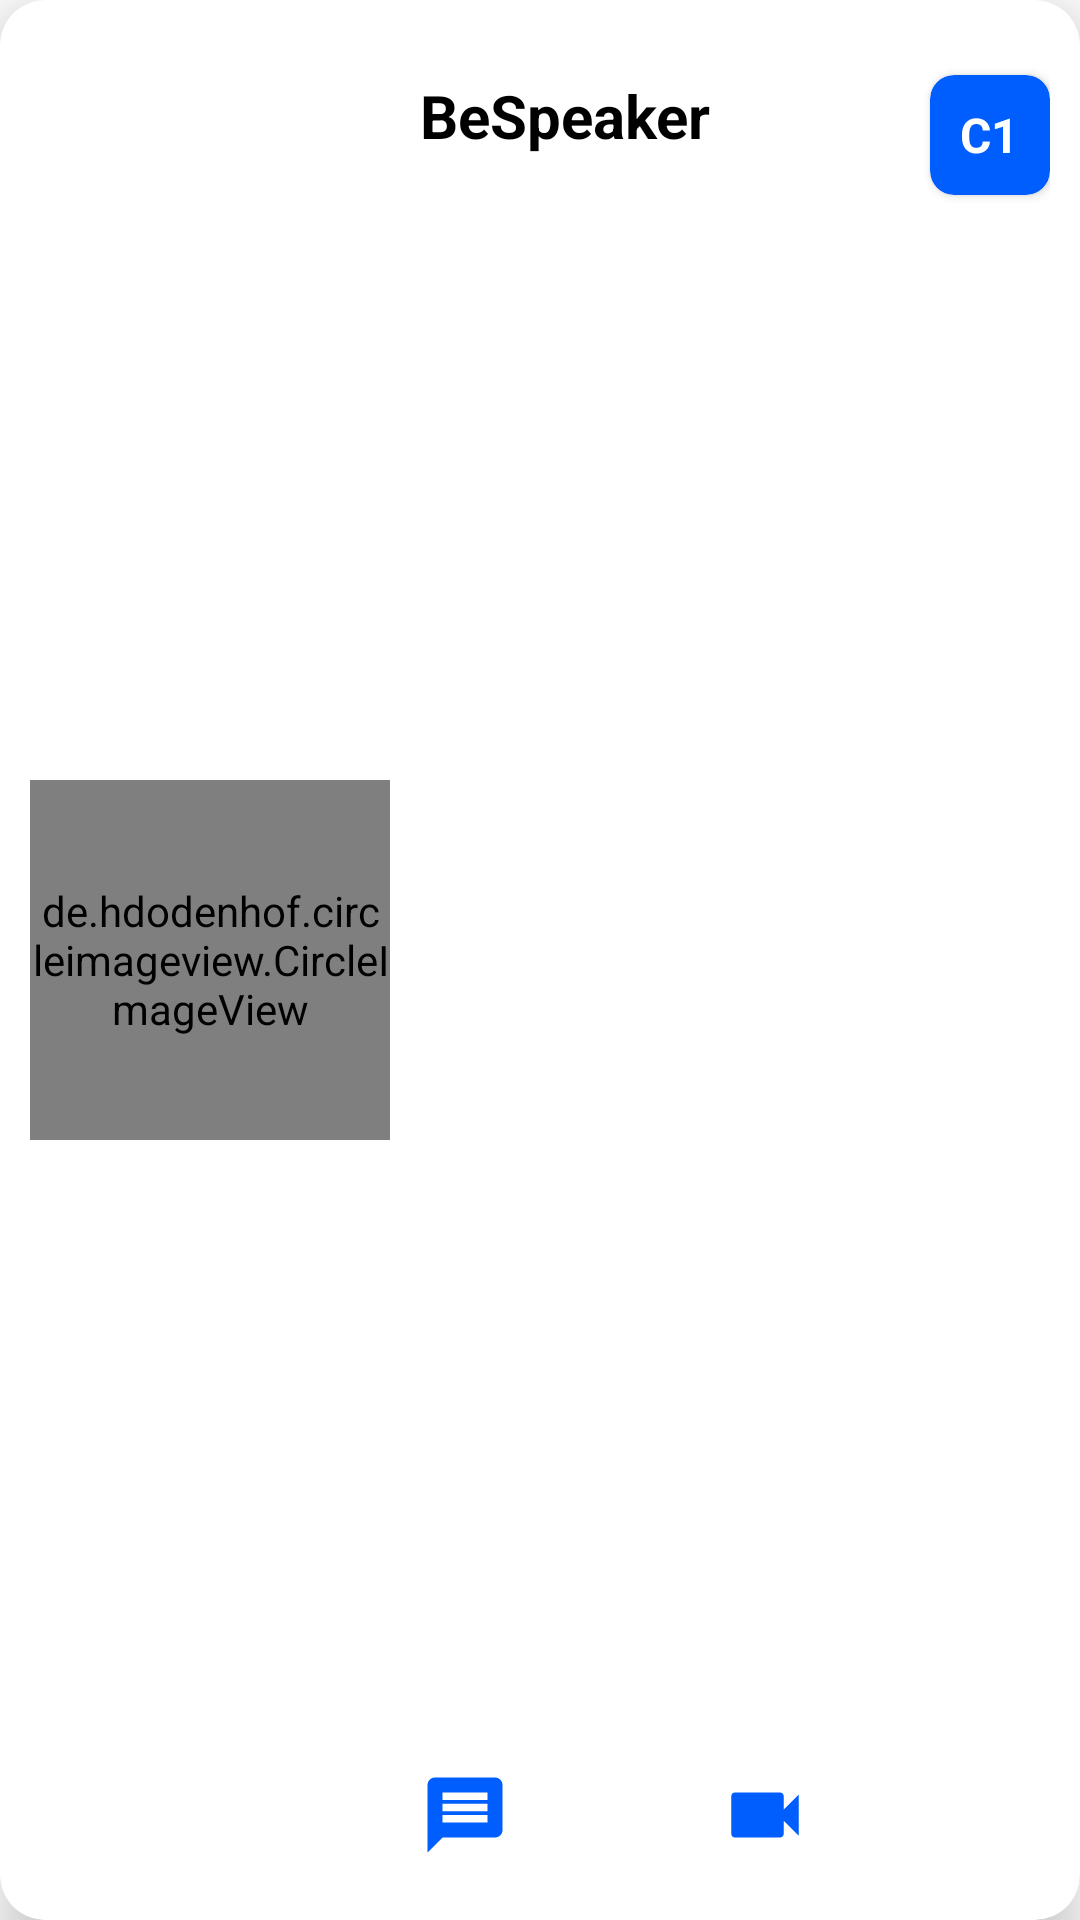

Screen size 1080 × 1920. Icon name, then its center in pixels as point (x, y):
message: point (465, 1815)
videocam: point (765, 1815)
